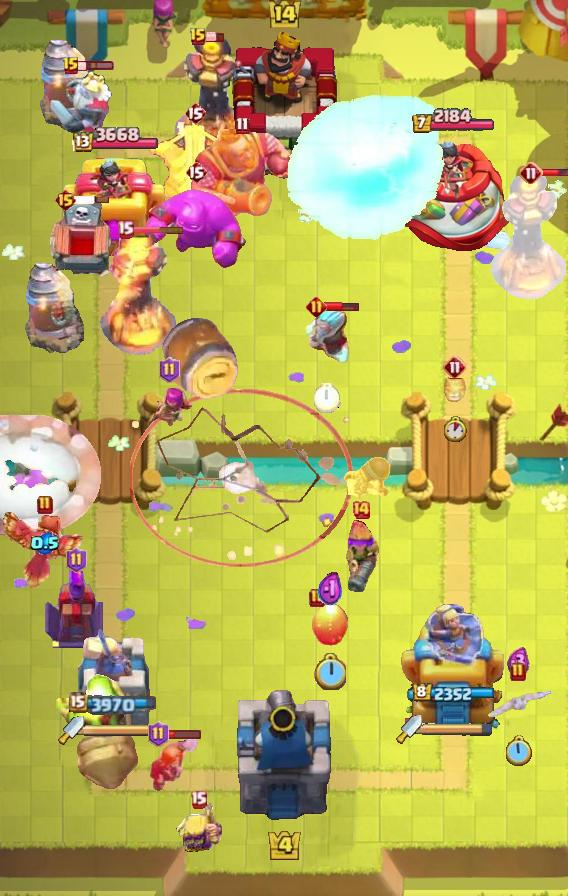arrows: (174, 802, 222, 854)
bar: (398, 595, 508, 731), (75, 623, 153, 731)
barbarian: (485, 686, 551, 720)
bomb-tower: (340, 516, 382, 596)
cannon: (145, 388, 193, 428)
clone: (142, 188, 250, 270)
dirt: (159, 315, 241, 401)
electro-dragon: (173, 36, 251, 164), (490, 174, 568, 302), (100, 230, 178, 358)
electro-spirit: (318, 571, 343, 609), (30, 532, 60, 556), (507, 646, 530, 677)
elixir: (314, 653, 346, 691), (504, 736, 532, 769), (314, 383, 340, 413), (445, 416, 468, 442)
elixir-golem-mid: (47, 199, 117, 285)
emote: (131, 225, 185, 234), (77, 60, 114, 72), (324, 301, 360, 312), (166, 728, 202, 739), (74, 195, 110, 205), (540, 168, 567, 178), (207, 33, 226, 44)
giant-skeleton: (186, 126, 297, 228)
goblin-ball: (341, 455, 393, 509)
golden-knight: (2, 506, 88, 588)
guard: (130, 388, 353, 567)
hog: (310, 603, 350, 647)
hog-rider: (146, 733, 200, 793)
ice-spirit-evolution: (444, 373, 466, 403)
ice-spirit-evolution-symbol: (44, 563, 108, 651)
king-tower: (222, 31, 346, 181), (232, 686, 336, 826)
king-tower-bar: (422, 722, 494, 736), (84, 723, 156, 737)
lava-pup: (146, 121, 244, 203)
magic-archer: (39, 39, 99, 131), (24, 262, 84, 354)
mega-knight: (282, 94, 448, 244)
mortar: (302, 302, 352, 366)
mortar-evolution: (49, 69, 113, 141)
queen-tower: (390, 137, 516, 255), (62, 156, 166, 256)
selected: (70, 127, 158, 155), (412, 109, 497, 136), (69, 692, 159, 715), (413, 684, 496, 705)
text: (519, 161, 543, 185), (443, 355, 467, 379), (147, 721, 169, 747), (54, 188, 77, 212), (160, 357, 181, 383), (66, 547, 87, 573), (184, 101, 206, 125), (185, 160, 207, 184), (305, 295, 327, 317), (351, 500, 371, 520), (189, 27, 207, 47), (62, 56, 80, 76), (117, 220, 135, 239), (37, 495, 53, 515), (309, 588, 325, 608), (510, 662, 526, 682), (190, 791, 207, 809), (234, 117, 249, 135)
wall-breaker: (0, 415, 100, 537)
x-bow: (51, 650, 145, 794)
